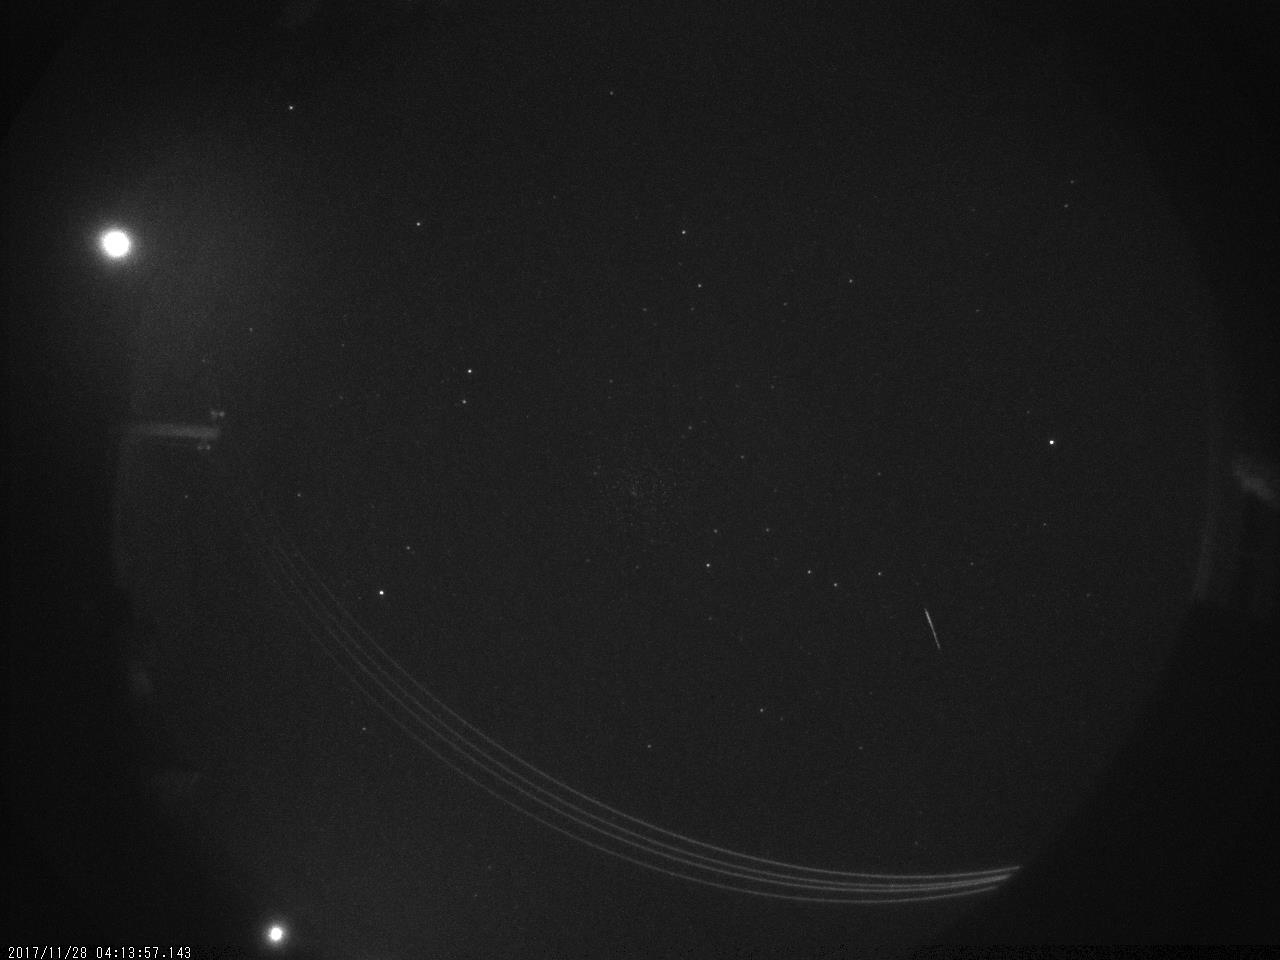meteor: (914, 585, 961, 673)
